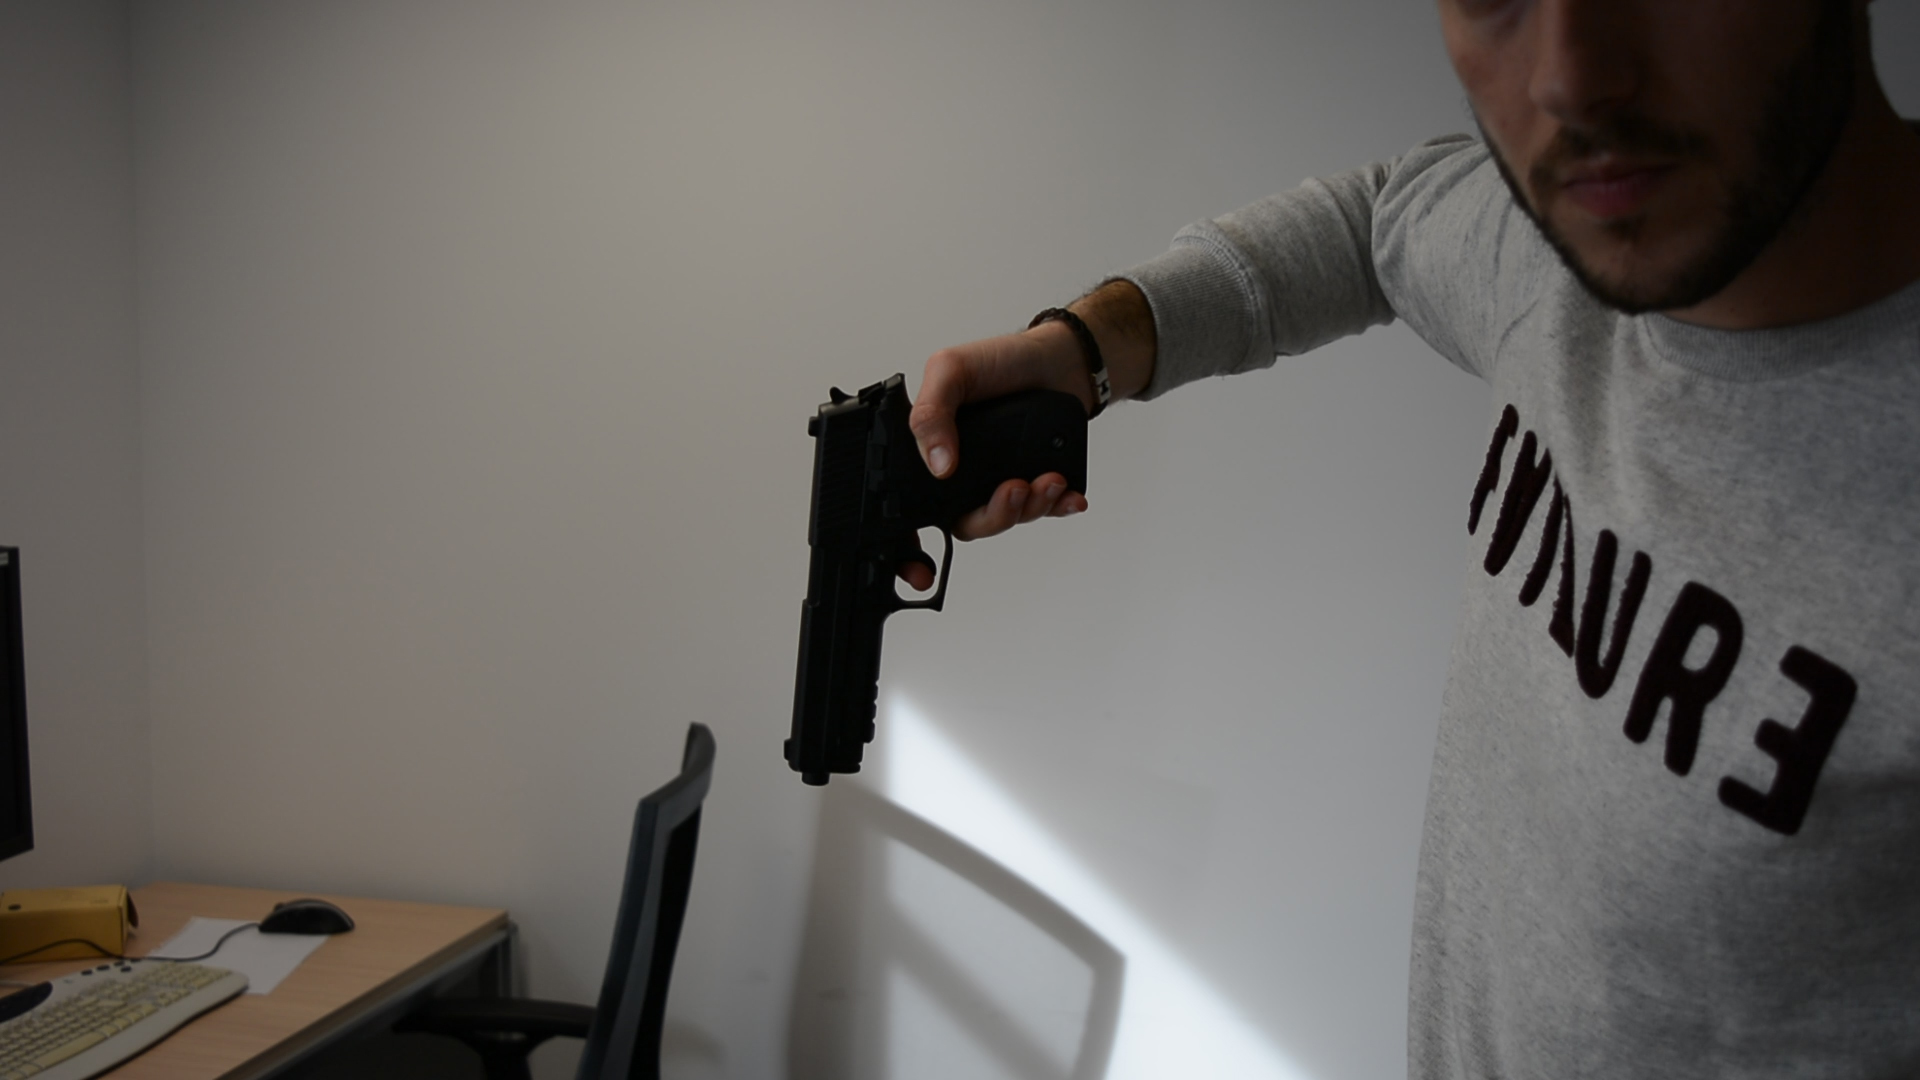pistol: (782, 367, 1092, 789)
